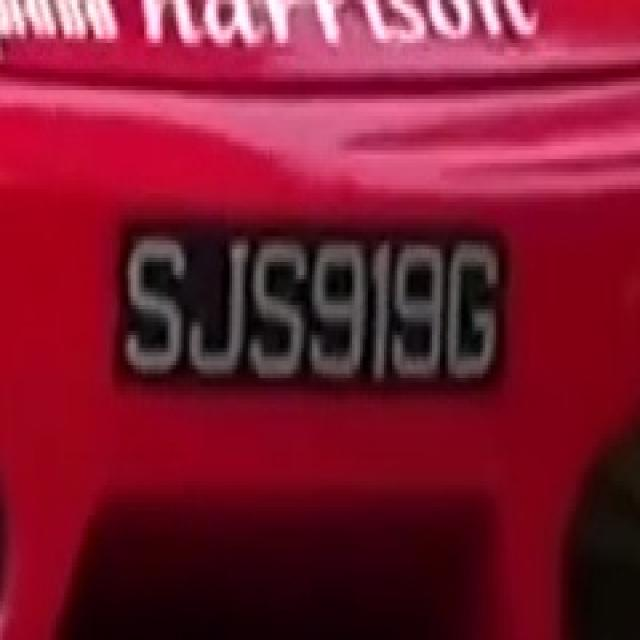1: (366, 232, 398, 395)
9: (315, 228, 365, 391), (394, 215, 442, 378)
G: (451, 223, 504, 391)
J: (181, 224, 248, 382)
S: (253, 215, 307, 382), (125, 228, 184, 369)
